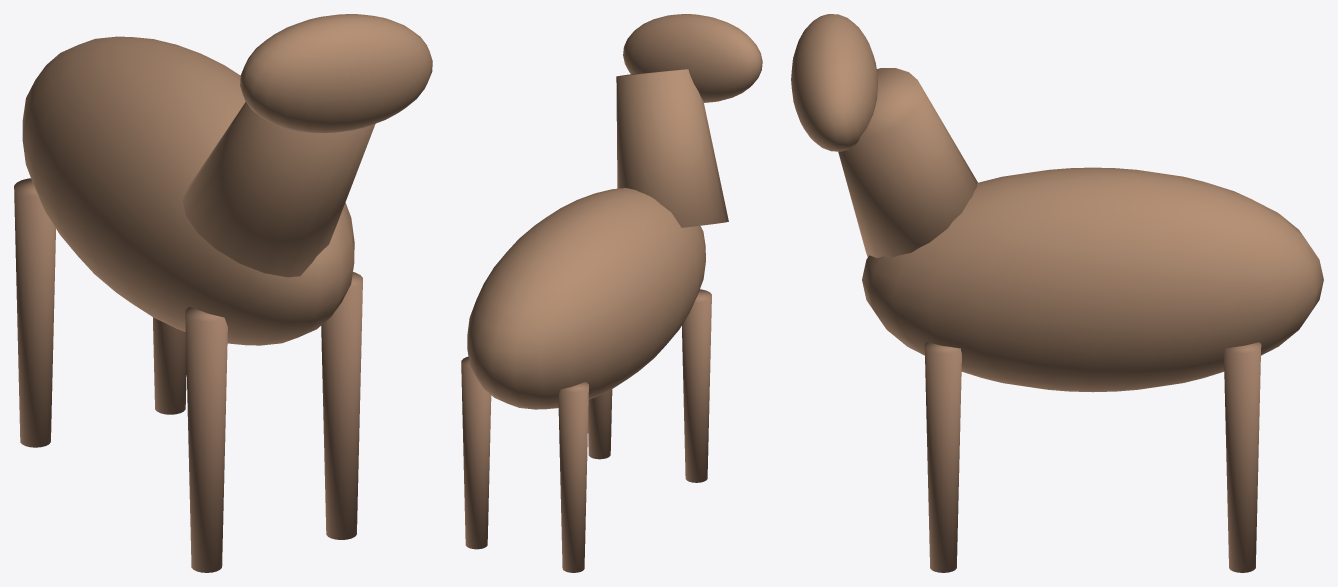
Rendered from horse.glb.
3 renders of one model, left to right at view 1: azimuth 30°, elevation 25°; view 2: azimuth 150°, elevation 25°; view 3: azimuth 270°, elevation 25°, orthographic. The views are drawn at different scales.
Visible parts, largest first — view 1: body, neck, head, leg_-0.25_0.55, leg_-0.25_-0.55, leg_0.25_0.55, leg_0.25_-0.55; view 2: body, neck, head, leg_-0.25_-0.55, leg_-0.25_0.55, leg_0.25_-0.55, leg_0.25_0.55; view 3: body, neck, head, leg_0.25_0.55, leg_0.25_-0.55.
Part boxes in pixels (x1,y1,x2,y2): body: [22, 36, 354, 345]; neck: [182, 102, 375, 277]; head: [240, 14, 432, 133]; leg_-0.25_0.55: [185, 307, 227, 572]; leg_-0.25_-0.55: [14, 178, 55, 447]; leg_0.25_0.55: [321, 272, 362, 539]; leg_0.25_-0.55: [153, 317, 186, 414]; body: [467, 188, 705, 409]; neck: [616, 69, 728, 227]; head: [623, 14, 762, 102]; leg_-0.25_-0.55: [558, 382, 588, 572]; leg_-0.25_0.55: [682, 289, 711, 482]; leg_0.25_-0.55: [461, 356, 491, 549]; leg_0.25_0.55: [588, 389, 612, 459]; body: [862, 167, 1323, 392]; neck: [838, 68, 977, 258]; head: [791, 14, 877, 151]; leg_0.25_0.55: [924, 342, 961, 572]; leg_0.25_-0.55: [1224, 342, 1261, 572].
Bounding box in the file's own units: 0.76 × 2.05 × 1.96.
